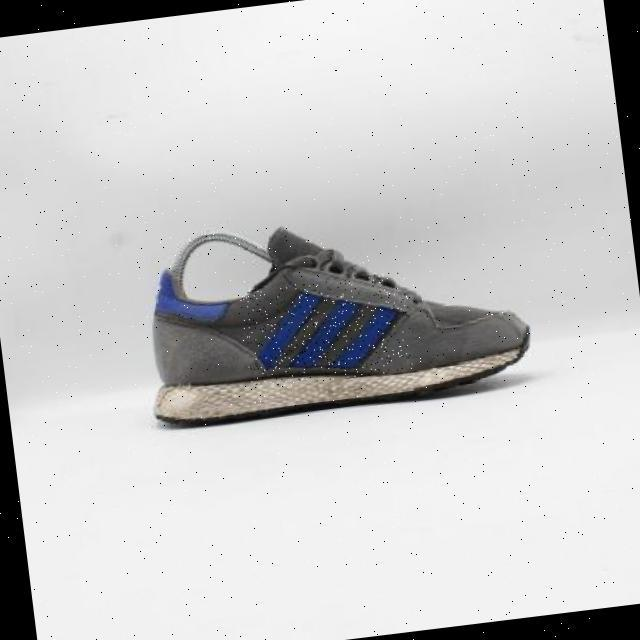Adidas: (239, 271, 416, 390)
